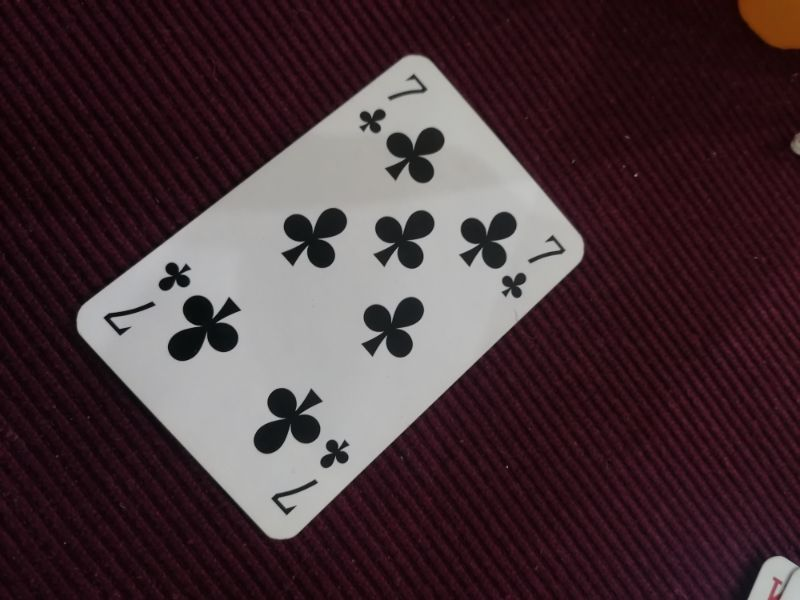7c: (99, 259, 195, 339), (267, 436, 354, 519), (500, 232, 568, 300), (358, 70, 429, 134)
